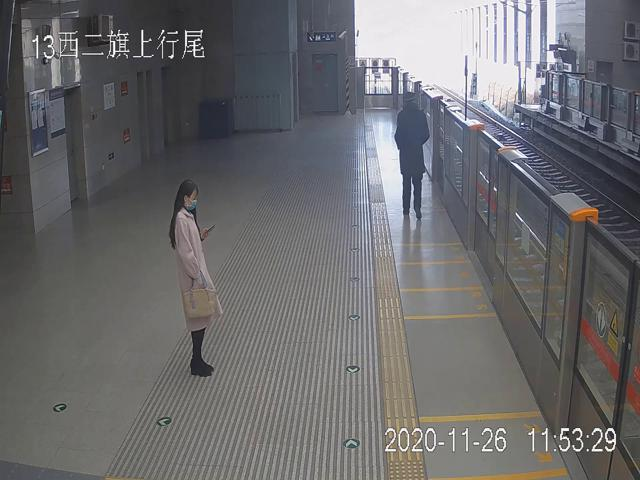person: (170, 179, 222, 377), (395, 92, 429, 221)
